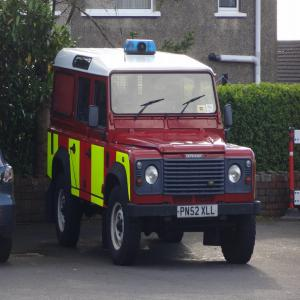Vehicle-registration-plate: (178, 205, 220, 218)
